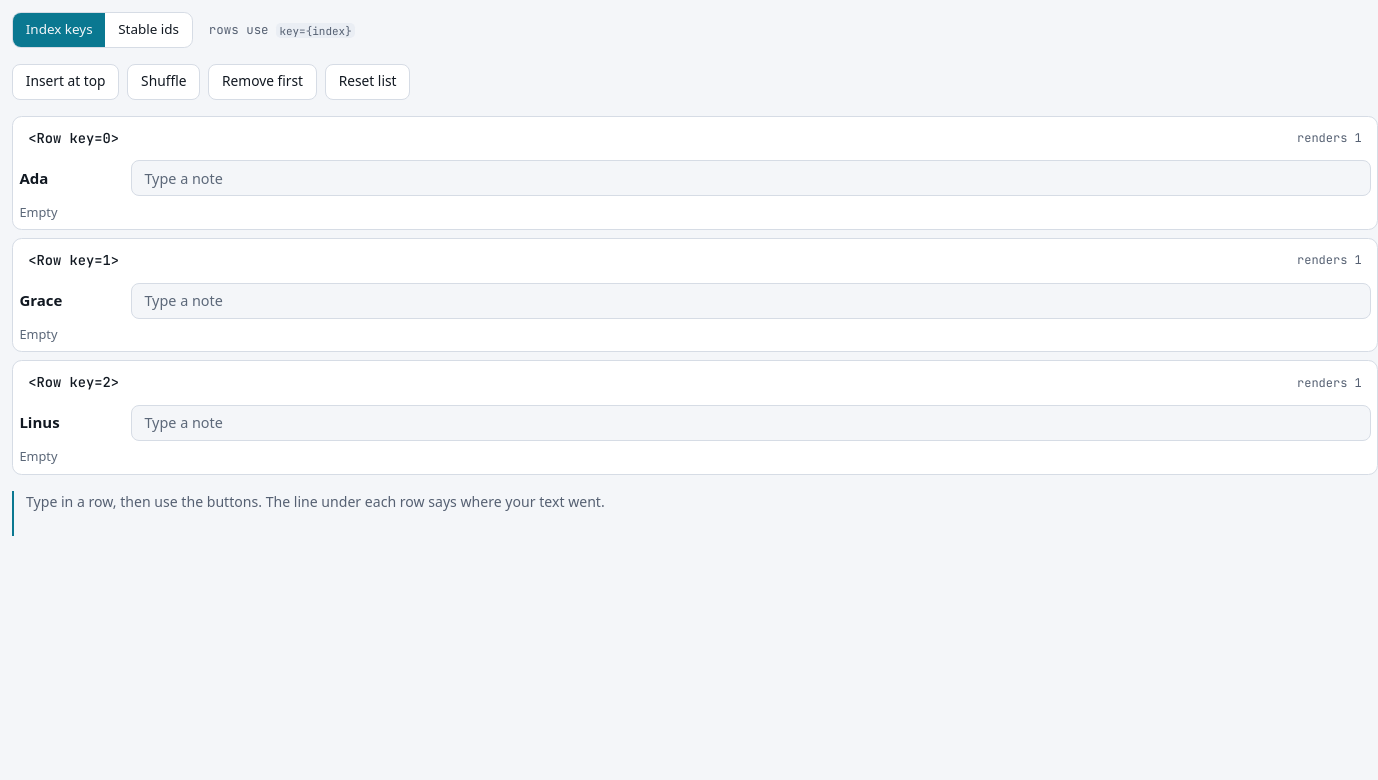
Test: key-chaos lab › explains the last action in a live region
The image size is (1378, 780).
Click the button "Insert at top". click: {"x": 66, "y": 82}
box: 12,64 -> 119,100
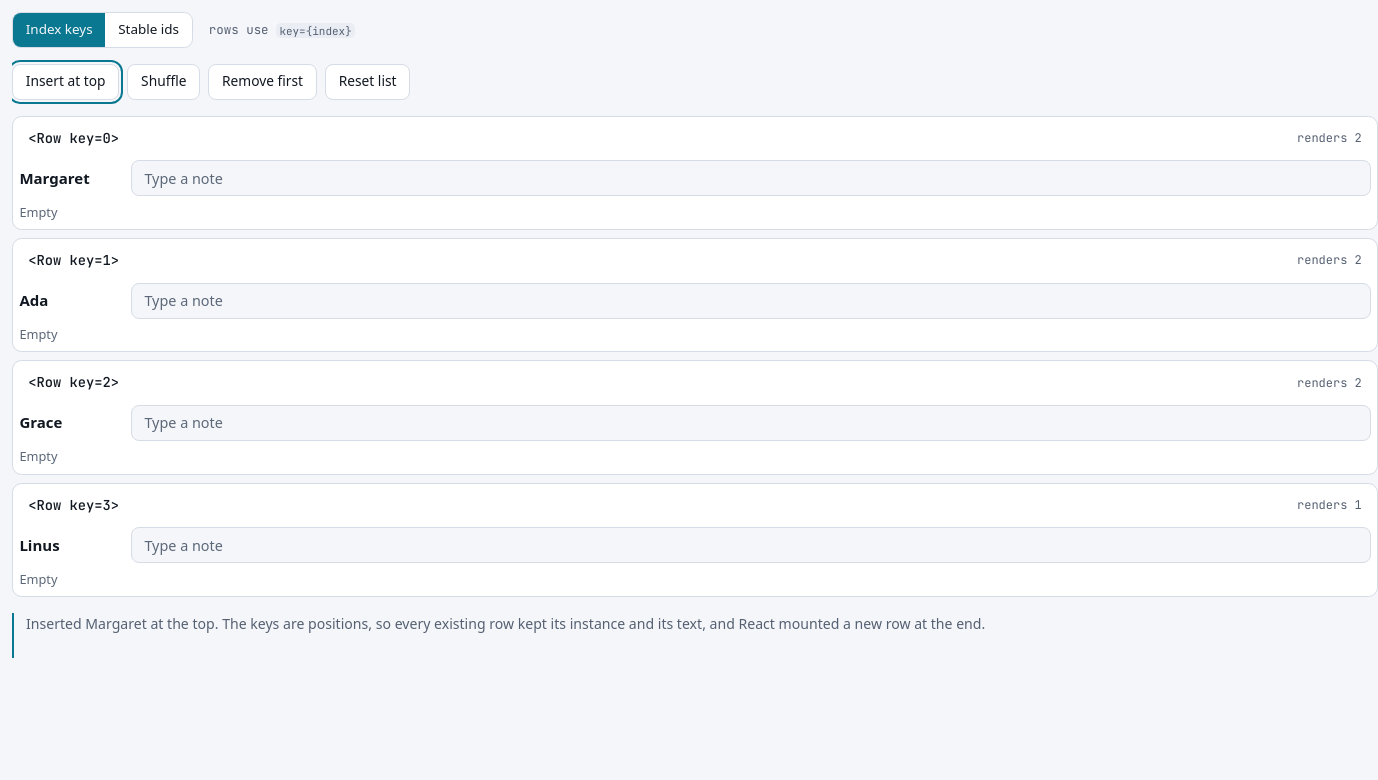
Check: the message named "What React did" shows "Inserted Margaret", box 26,614 -> 985,633
